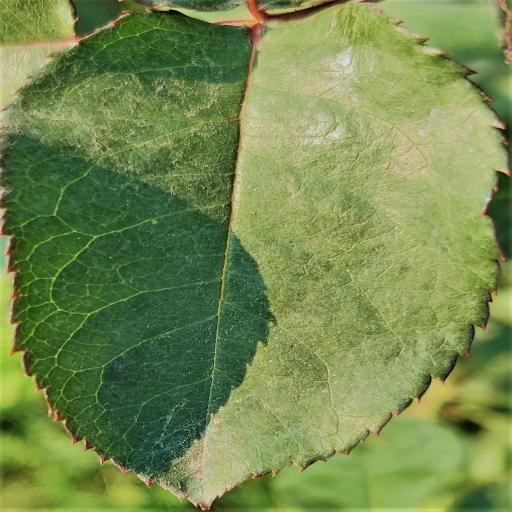healthy_leaf: (0, 0, 508, 509)
